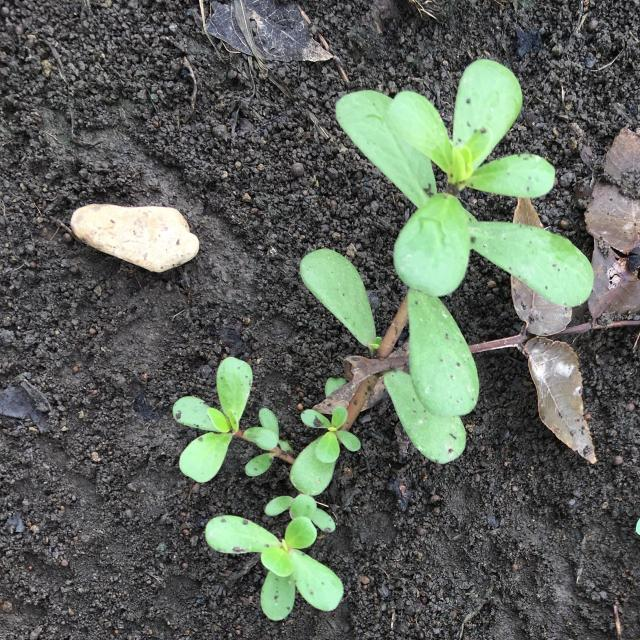Purslane: (172, 59, 594, 621)
